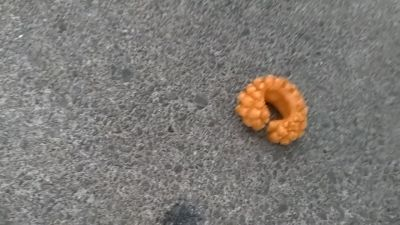eggs: (233, 73, 310, 145)
